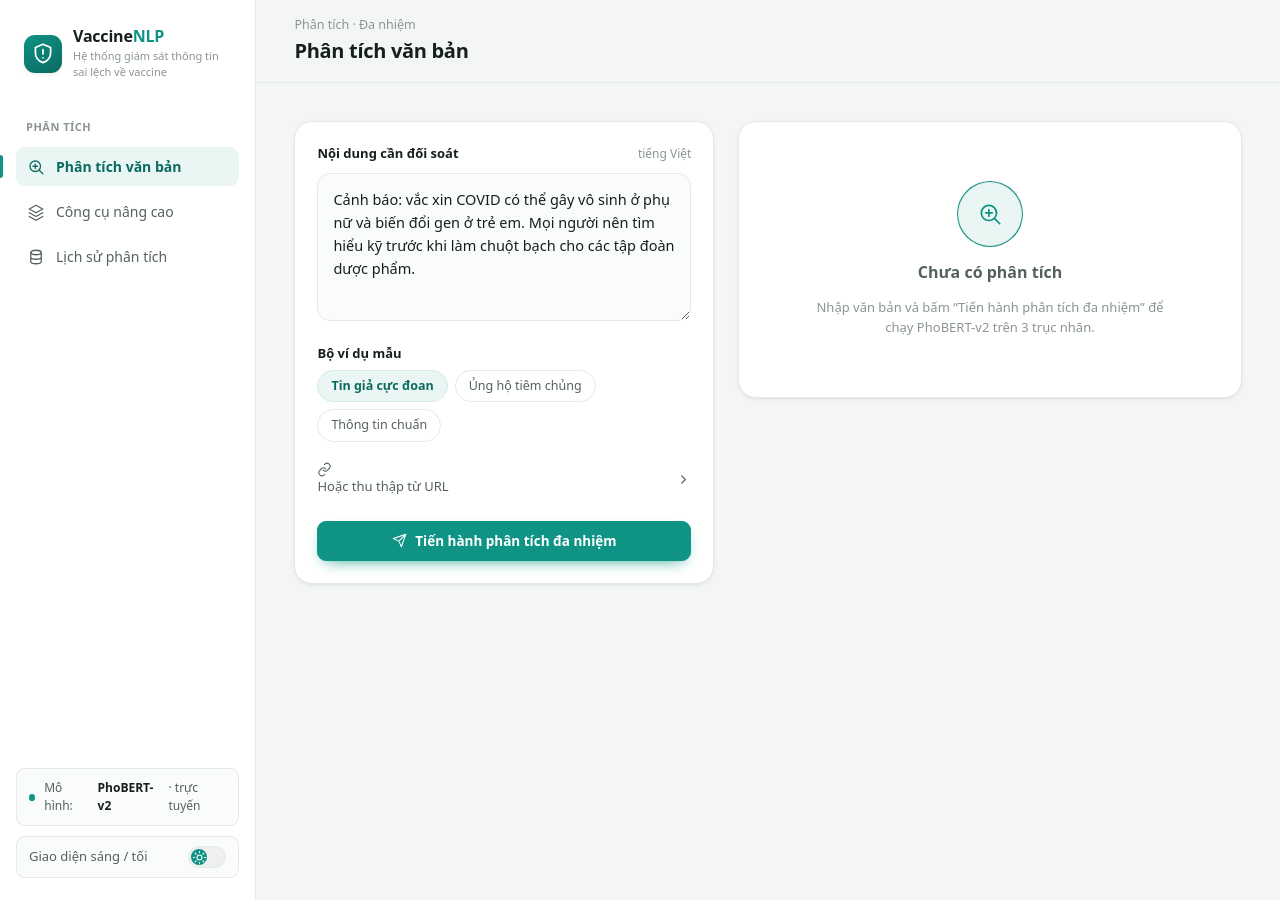
Scenario: VaccineNLP React Frontend Unit Tests › can navigate to the Advanced tools screen with batch only
Click the button "Công cụ nâng cao".
click(128, 212)  # box 16,192 -> 239,231
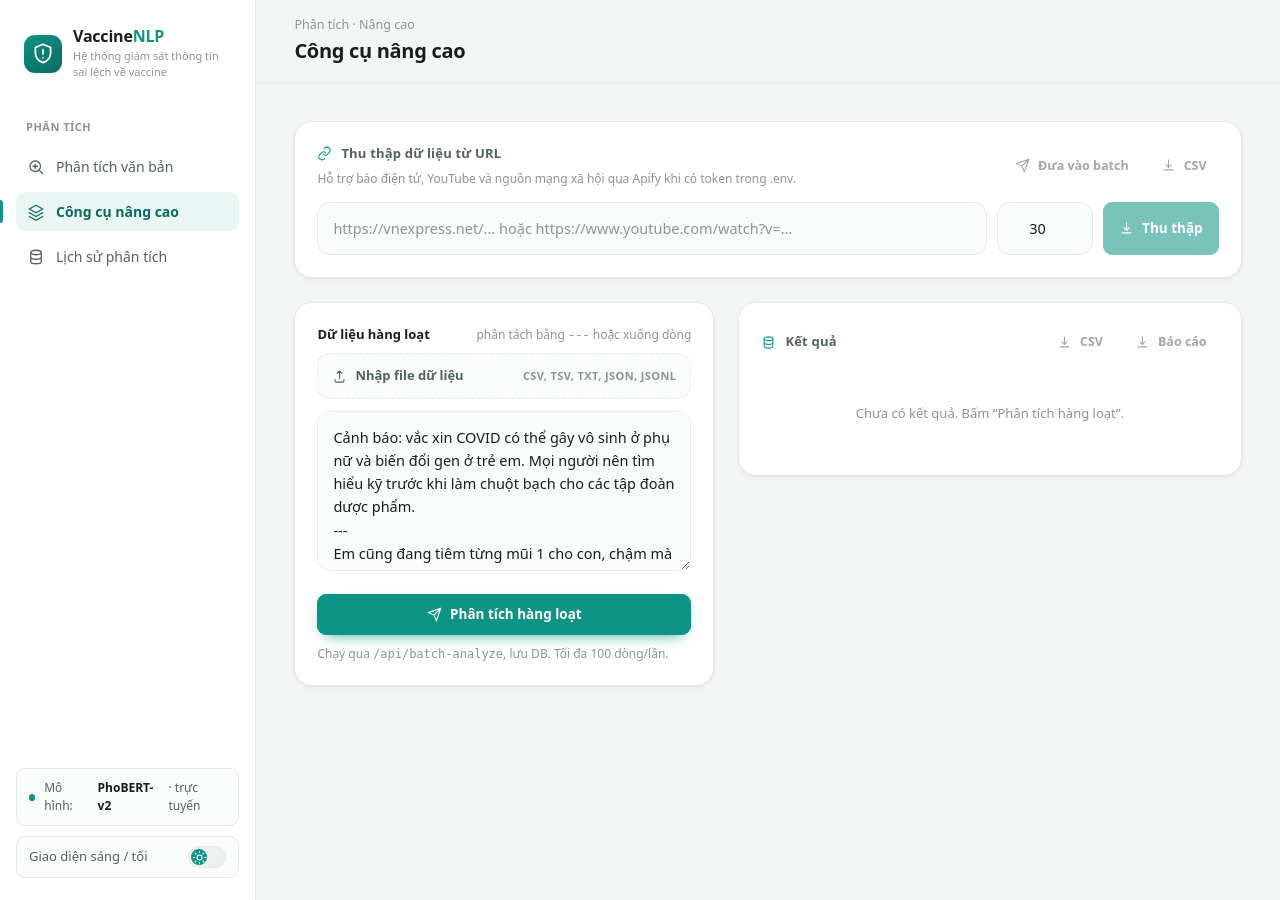
Expected: the text "Dữ liệu hàng loạt phân tách bằng --- hoặc xuống dòng" is shown, 317,325 -> 691,344
